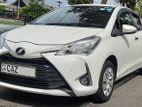car: (0, 3, 141, 102)
